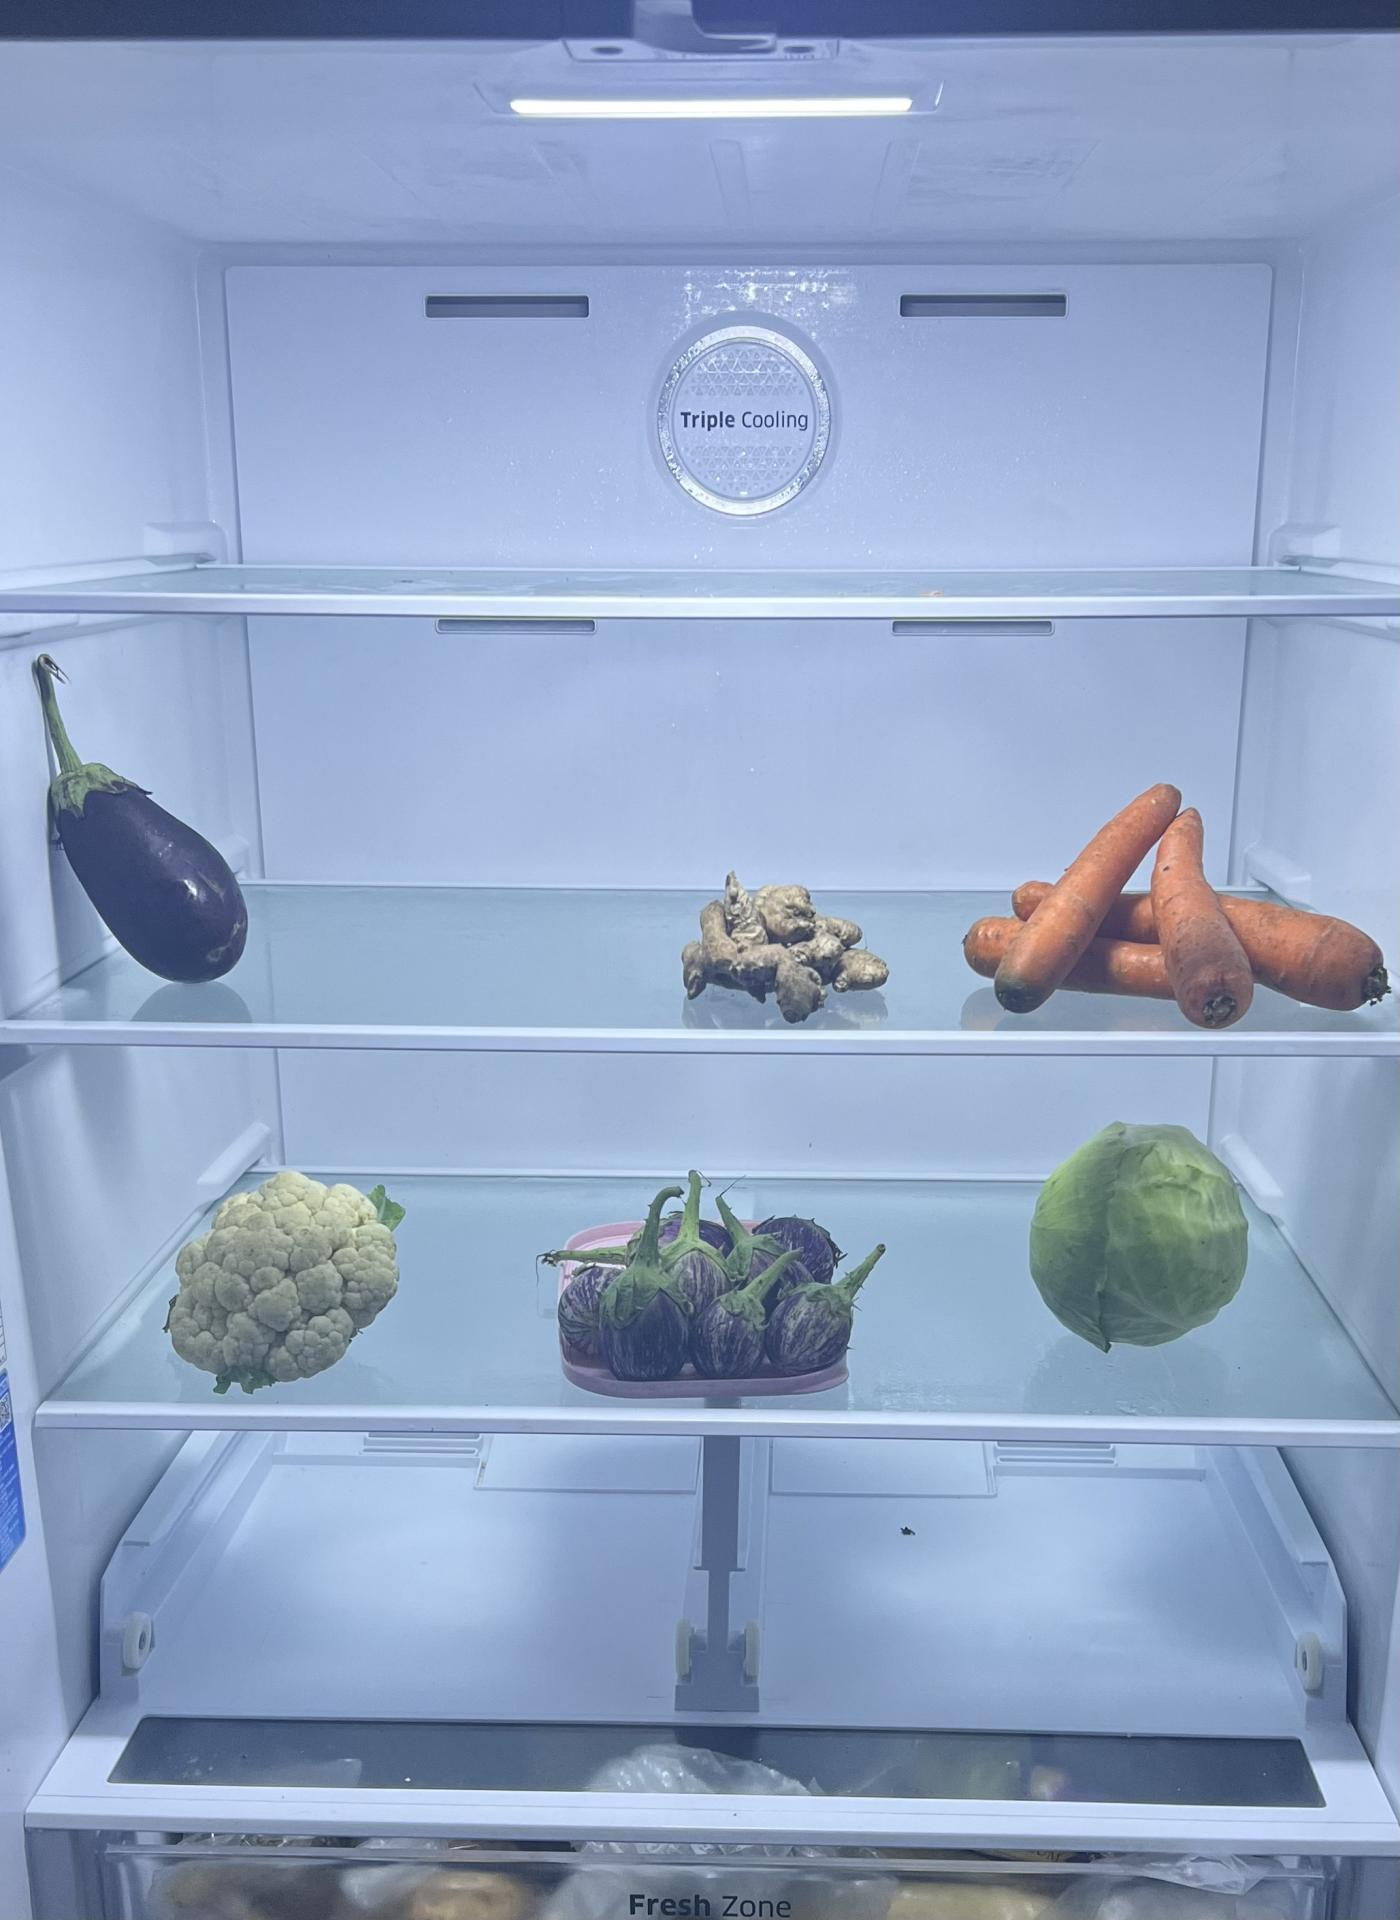brinjal: (540, 1176, 871, 1391), (36, 684, 247, 991)
cabbage: (1024, 1115, 1251, 1343)
carrots: (971, 789, 1400, 1027)
cauliflower: (165, 1167, 407, 1388)
ginger: (681, 874, 889, 1012)
